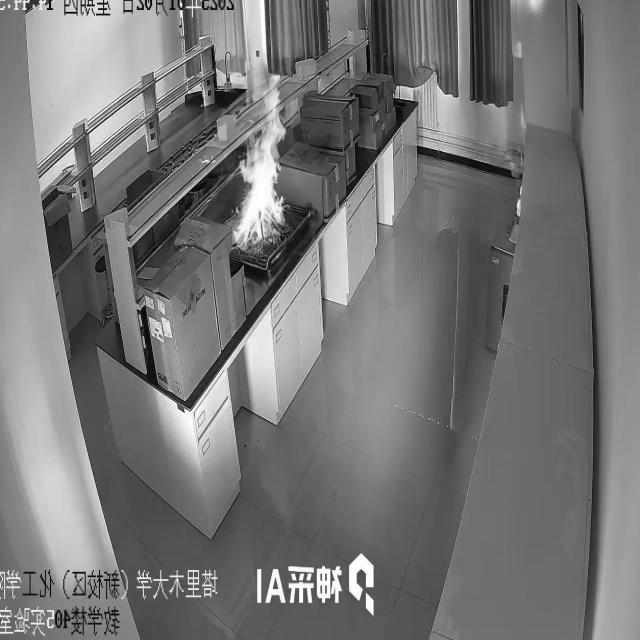smoke: (233, 65, 288, 252)
